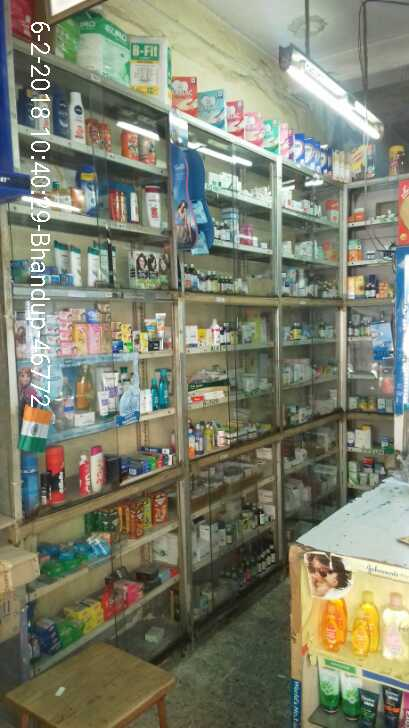beauty: (45, 448, 64, 499)
